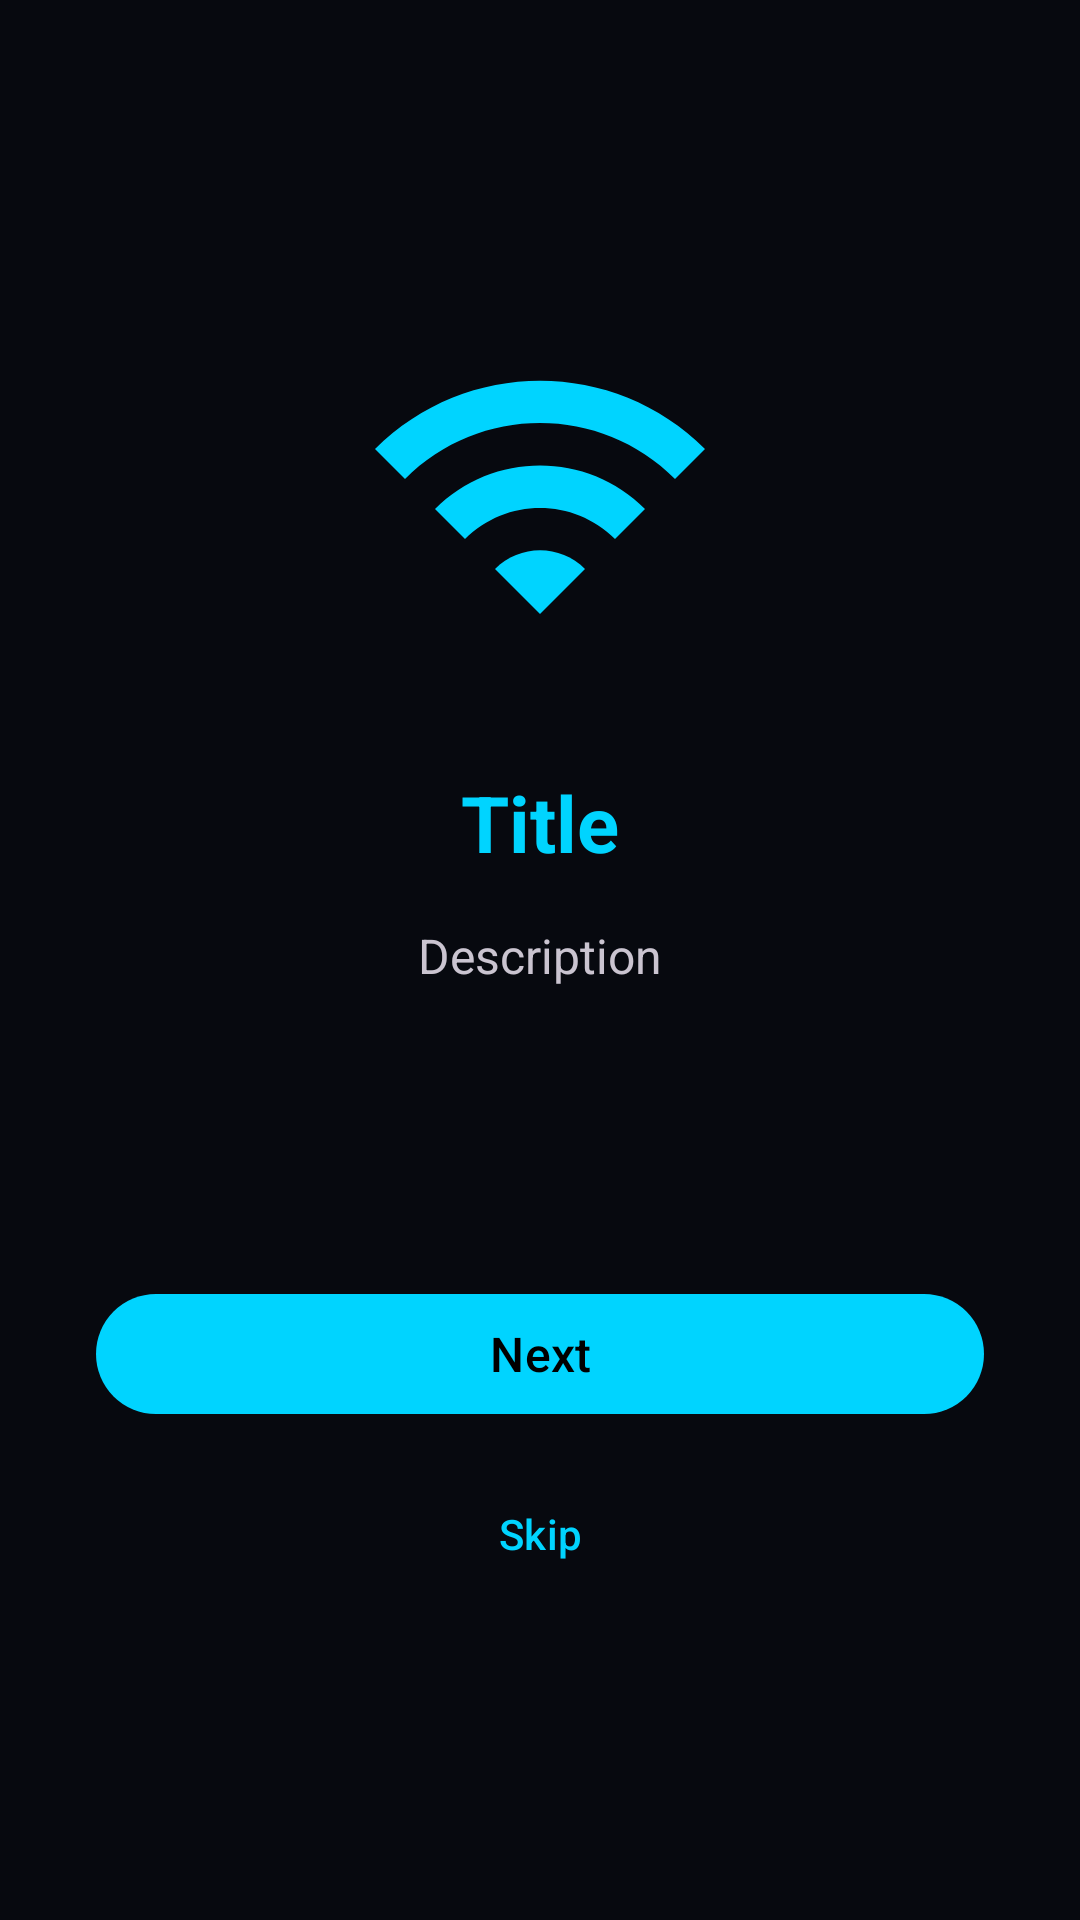

Where to tap for icons on this 1080×1920 app screen, as (x=x, y=y):
wifi scan: (x=540, y=497)
